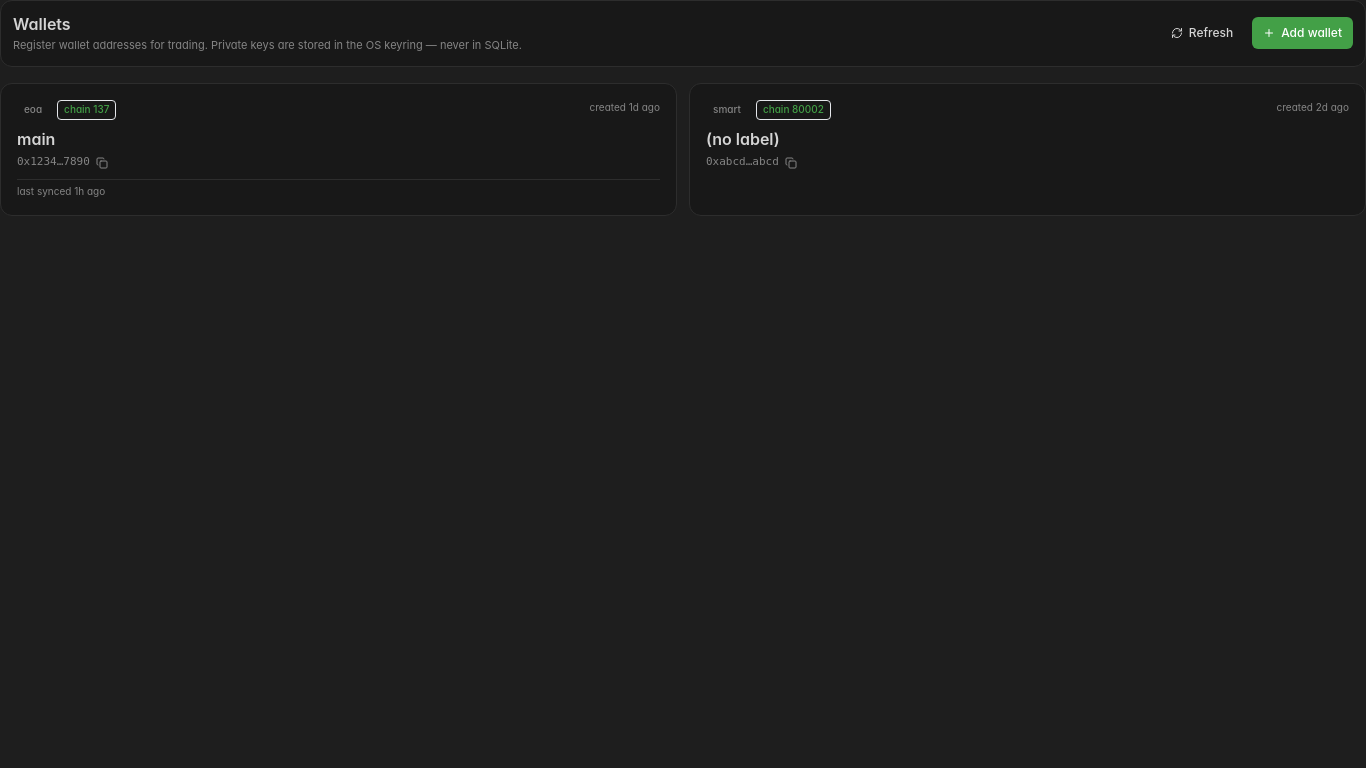
Test case: Wallets (round 2 — v0.72b) › cancel button closes modal without submitting mutation
Expected: the text "main" is shown, [17,129,55,149]
Click the button "Add wallet" at x=1303, y=33, box [1252,17,1353,49]
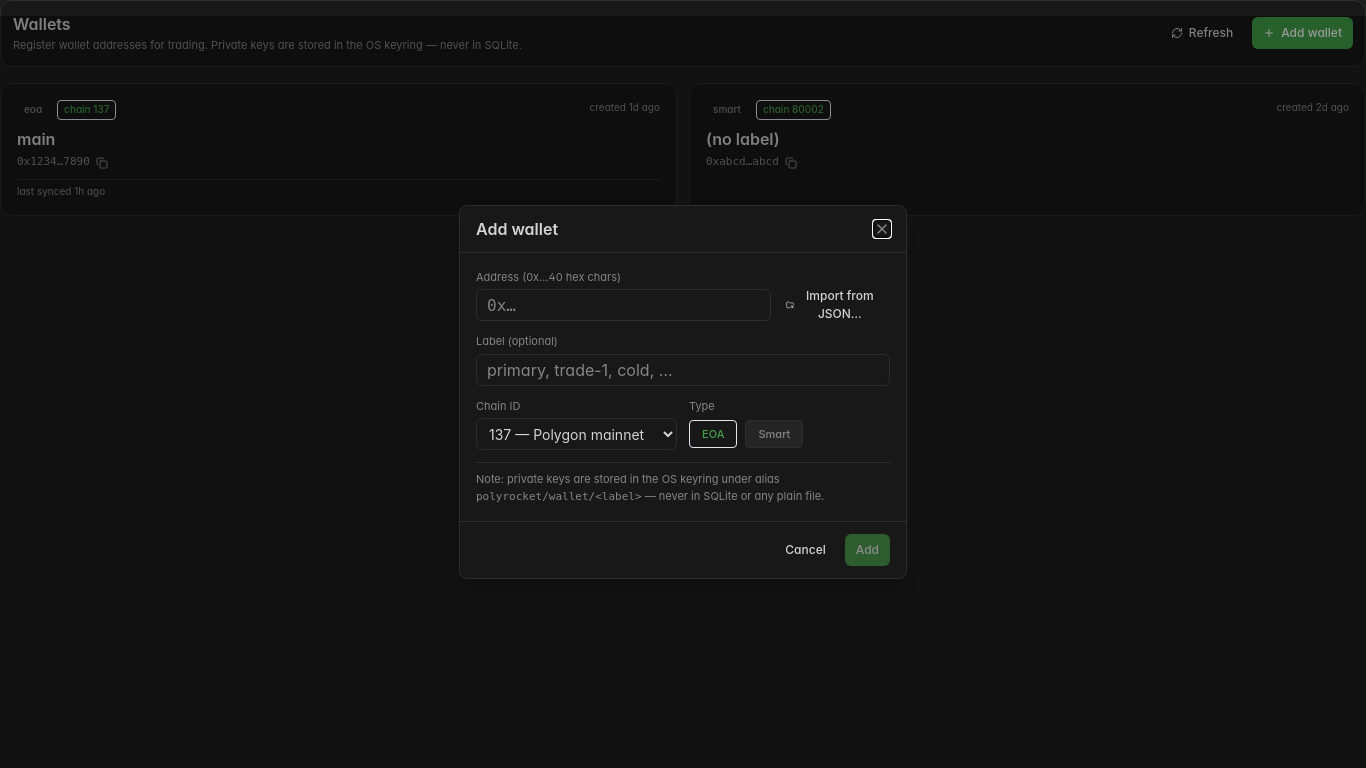
Expected: the button "Cancel" is shown
Click the button "Cancel" at x=806, y=550, box [774,534,837,566]
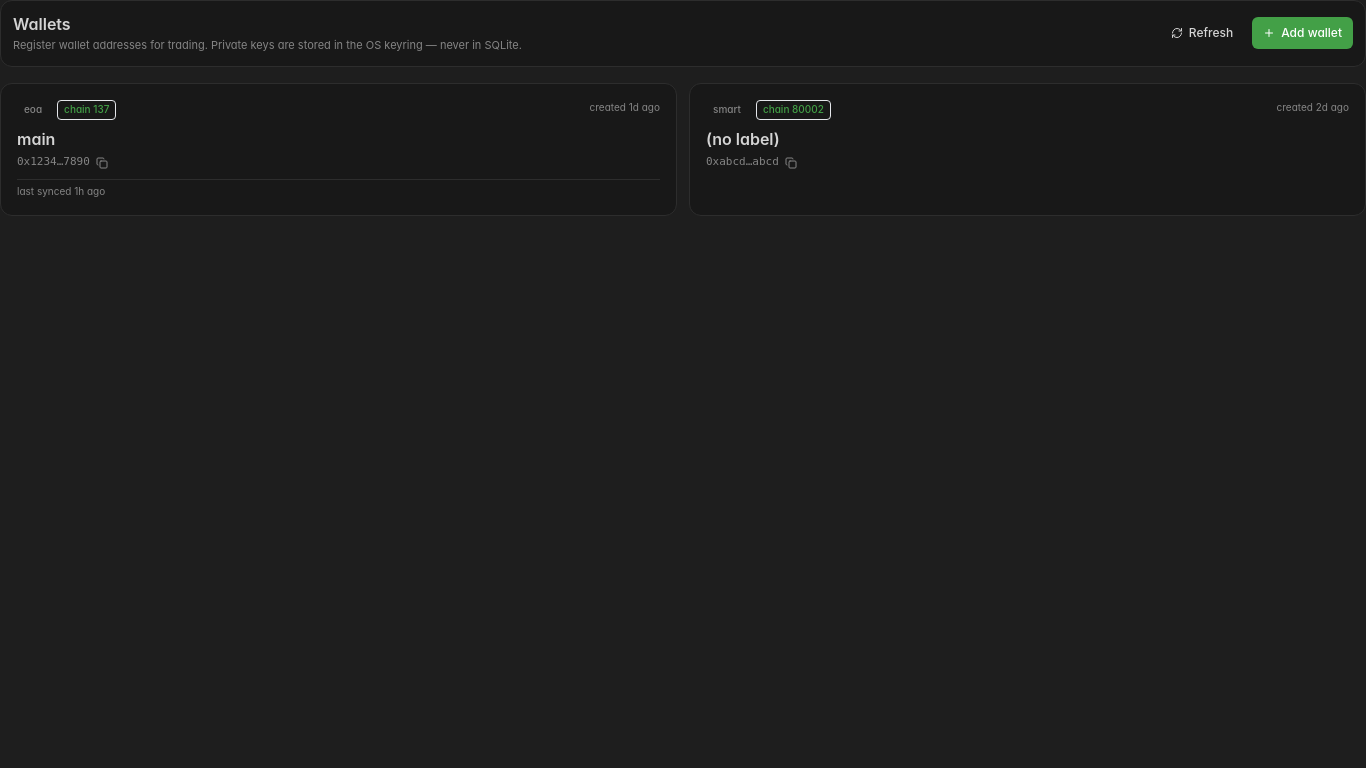
Expected: no fields are shown
